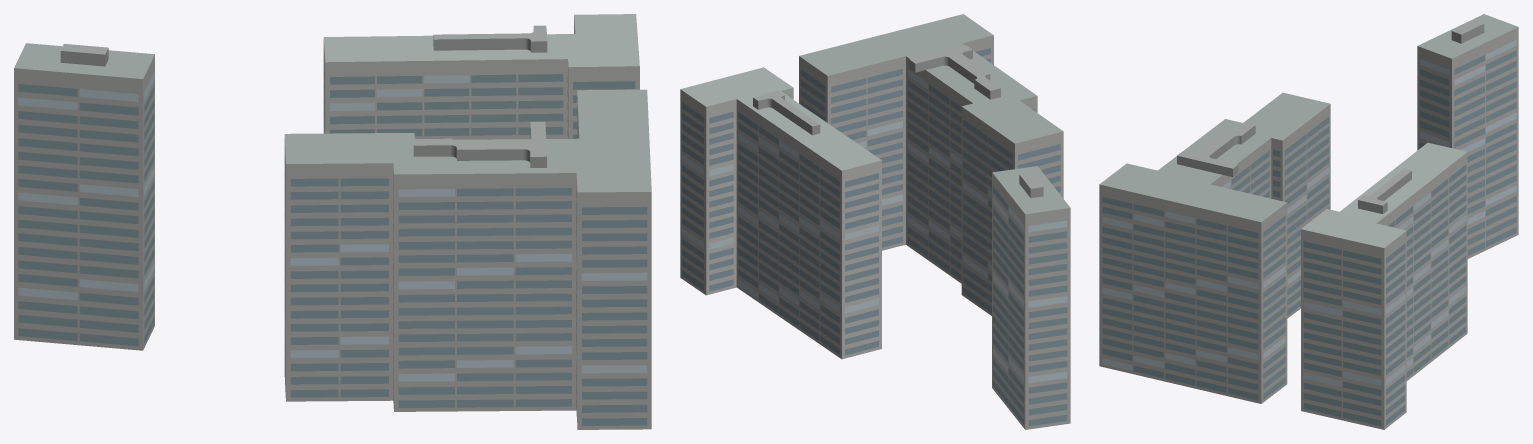
The model's file is apt-a15786312.glb.
The picture shows the model from 3 angles, left to right: view 1: azimuth 30°, elevation 25°; view 2: azimuth 150°, elevation 25°; view 3: azimuth 270°, elevation 25°; orthographic projection. The views are drawn at different scales.
Parts seen in each view (by area): view 1: apt-a15786312; view 2: apt-a15786312; view 3: apt-a15786312.
Boxes of the visible parts, bbox=[...] form: apt-a15786312: bbox=[14, 14, 651, 429]; apt-a15786312: bbox=[680, 14, 1070, 429]; apt-a15786312: bbox=[1099, 14, 1518, 429].
Bounding box in the file's own units: 117 × 57 × 99.82.
